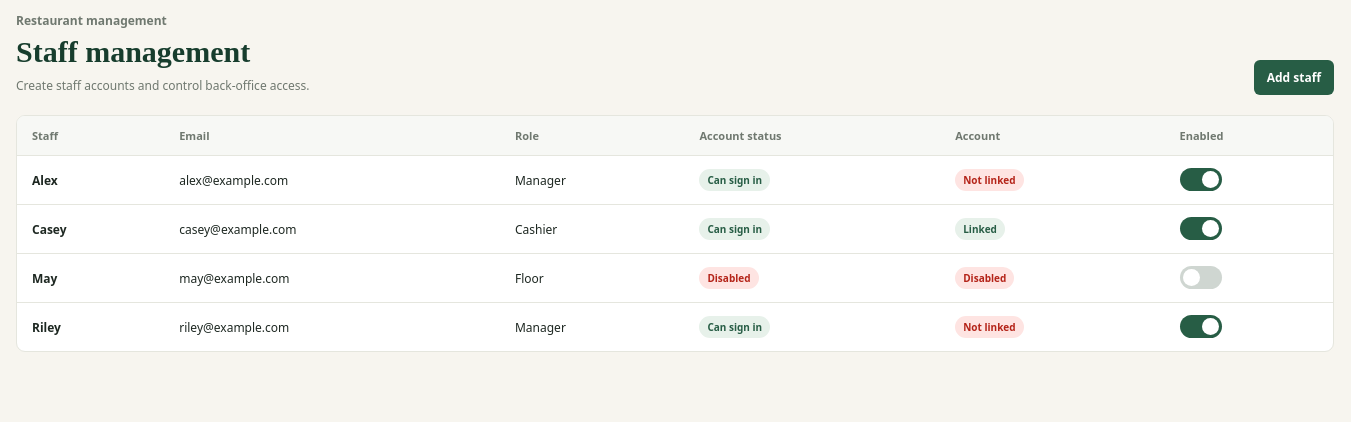
Test: StaffManagement › does not allow disabling the currently signed-in manager
The image size is (1351, 422).
Click the button named "Toggle account status for Alex": (1201, 180) top-left (1180, 168), bottom-right (1222, 191)
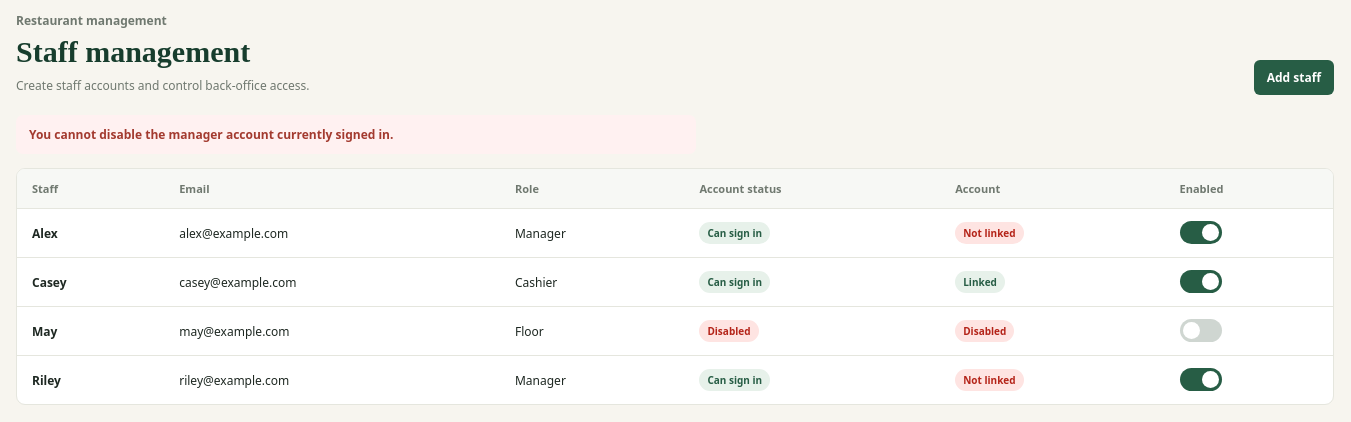
Expected: the message reads "You cannot disable the manager account currently signed in.", top-left (29, 126), bottom-right (393, 143)
